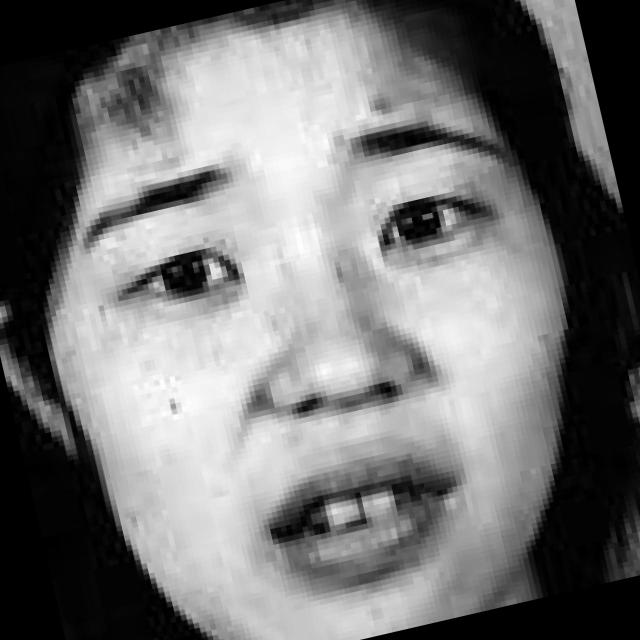fear: (17, 17, 614, 640)
